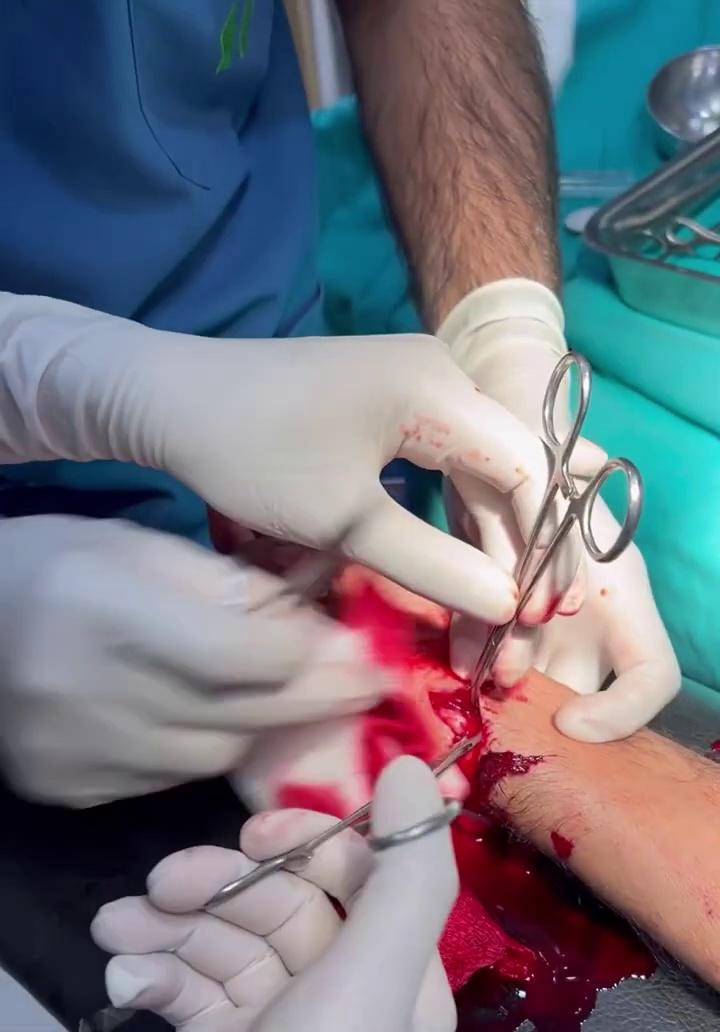Fire: (421, 673, 640, 1032), (236, 564, 477, 818)
